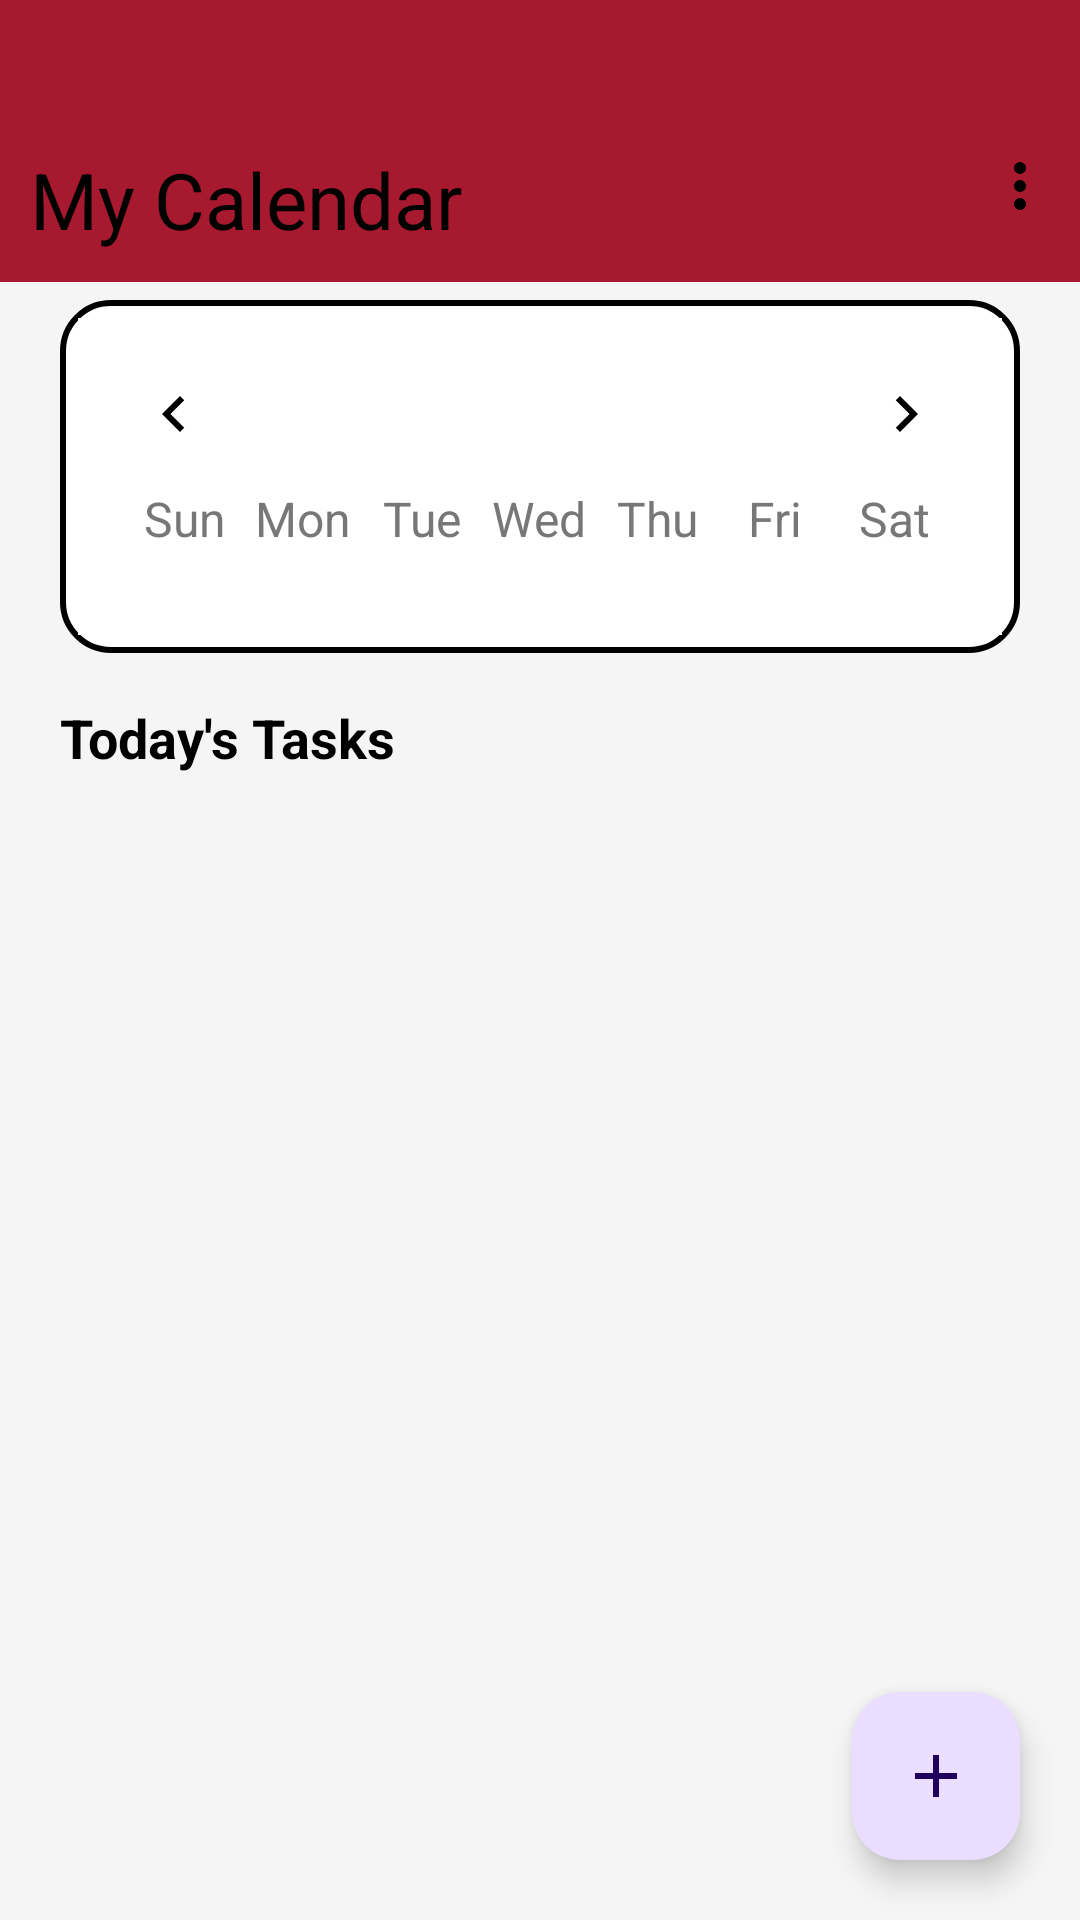

Named icons in this screenshot (1080px×1920px) and their bounding boxes, Rect(x1, y1, x2, y2):
Add Event: Rect(852, 1692, 1020, 1860)
chevron left: Rect(162, 396, 184, 432)
chevron right: Rect(896, 396, 918, 432)
more vert: Rect(1014, 162, 1026, 210)
